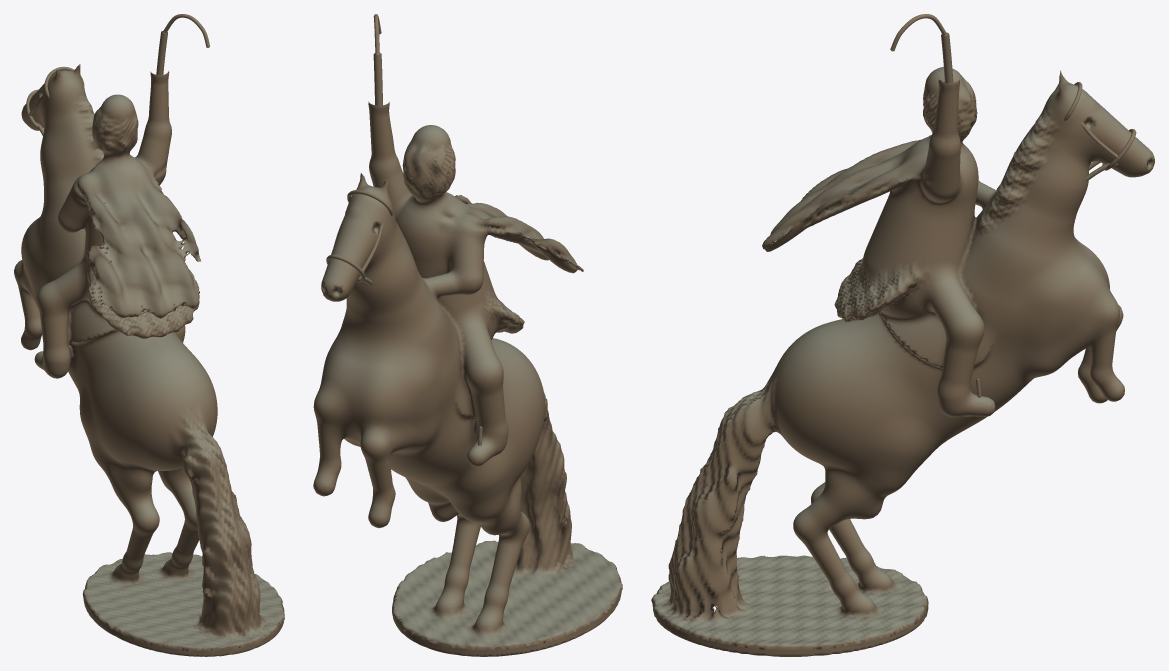
Rendered from salavat-yulaev.glb.
3 views of the same model, side by side, from view 1: azimuth 30°, elevation 25°; view 2: azimuth 150°, elevation 25°; view 3: azimuth 270°, elevation 25° (orthographic). The views are drawn at different scales.
Visible parts, largest first — view 1: statue; view 2: statue; view 3: statue.
Part boxes in pixels (x1,y1,x2,y2): statue: [14, 14, 284, 656]; statue: [313, 14, 622, 656]; statue: [651, 14, 1154, 656].
Bounding box in the file's own units: 3.09 × 9.8 × 7.09.
